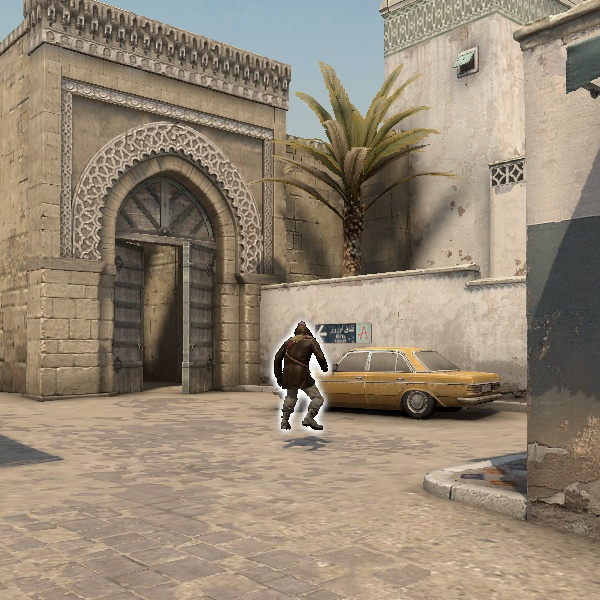t_body: (268, 320, 334, 434)
t_head: (291, 318, 314, 340)
